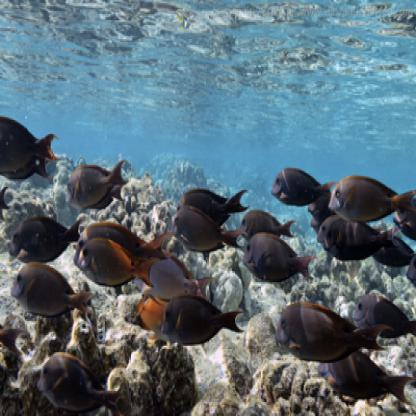Acanthuridae -Surgeonfishes-: (273, 295, 394, 361), (309, 344, 416, 409), (37, 350, 131, 415), (10, 260, 96, 317), (170, 202, 249, 264), (157, 296, 243, 346), (73, 238, 156, 289), (328, 177, 416, 225), (8, 213, 87, 263), (1, 113, 62, 176), (241, 236, 316, 285), (65, 161, 137, 210), (269, 158, 333, 207), (355, 288, 416, 338), (237, 209, 303, 240)
